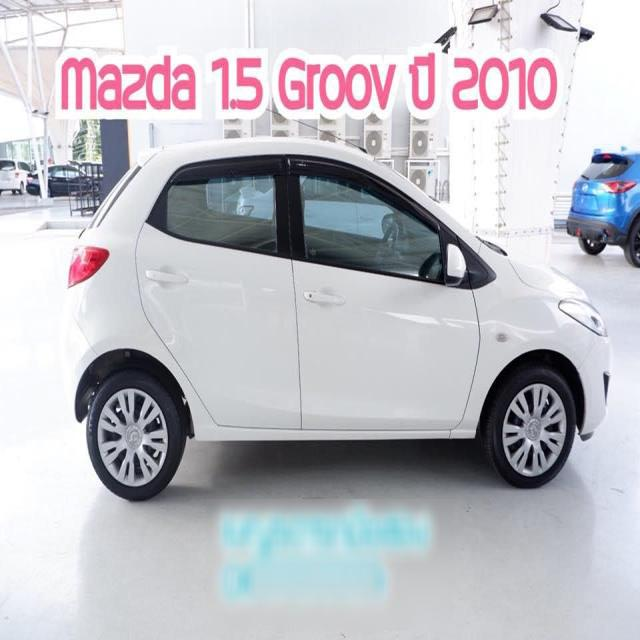back_right_door: (137, 153, 301, 432)
back_right_light: (65, 246, 111, 288)
front_right_door: (286, 157, 482, 432)
front_right_light: (547, 298, 608, 336)
right_mirror: (447, 242, 468, 288)
wheel: (87, 365, 576, 501)
